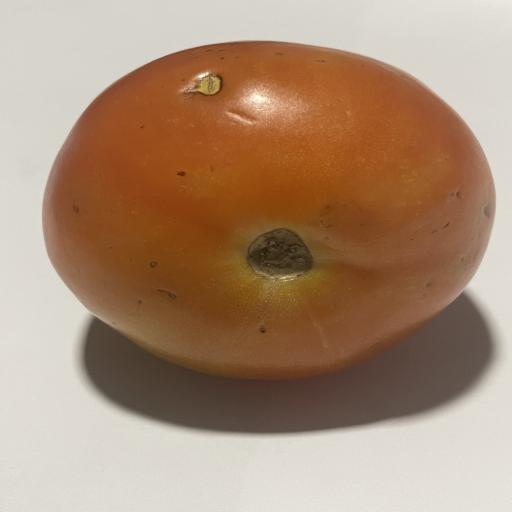unripe: (43, 42, 495, 379)
